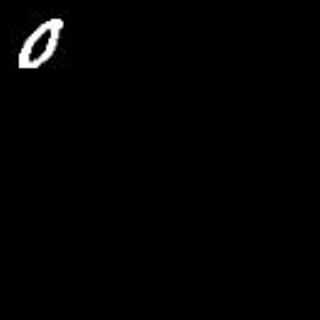zero: (15, 16, 67, 72)
